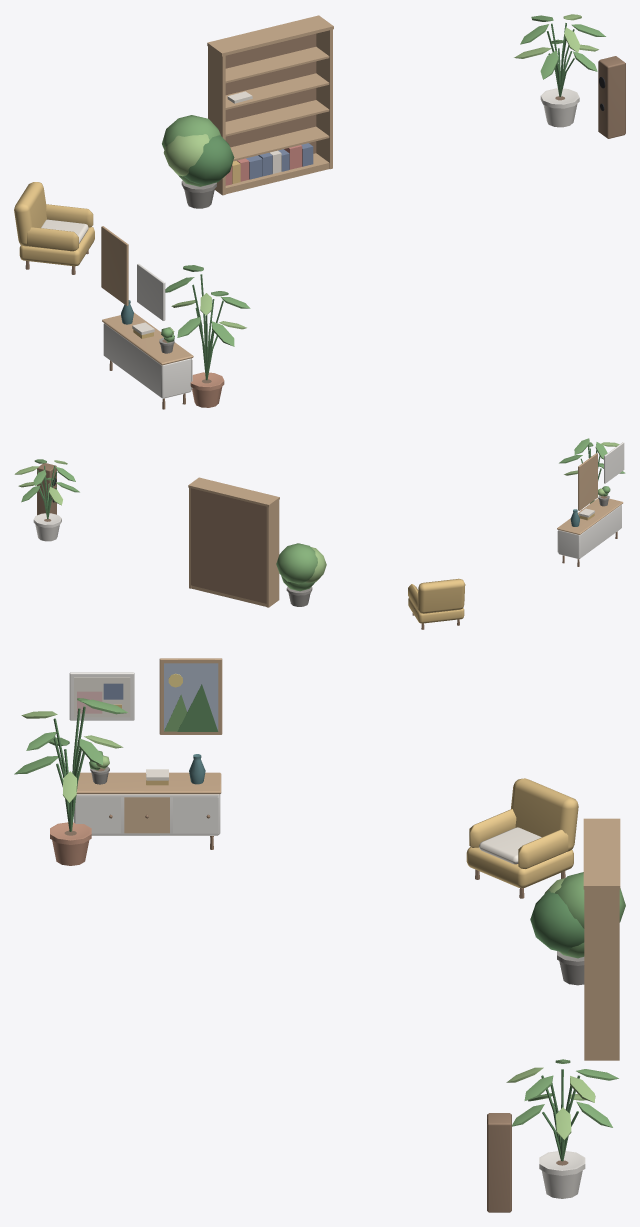
The model's file is einrichtung_wohnzimmer_buehne.glb.
3 renders of one model, top to bottom at view 1: azimuth 30°, elevation 25°; view 2: azimuth 150°, elevation 25°; view 3: azimuth 270°, elevation 25°, orthographic. The views are drawn at different scales.
Parts seen in each view (by area): view 1: einrichtung_wohnzimmer_buehne; view 2: einrichtung_wohnzimmer_buehne; view 3: einrichtung_wohnzimmer_buehne.
Part boxes in pixels (<box>): einrichtung_wohnzimmer_buehne: <box>14,14,625,409</box>; einrichtung_wohnzimmer_buehne: <box>14,438,625,629</box>; einrichtung_wohnzimmer_buehne: <box>14,658,625,1212</box>.
Size of the model in its own units: 8.67 by 1.85 by 5.85.
